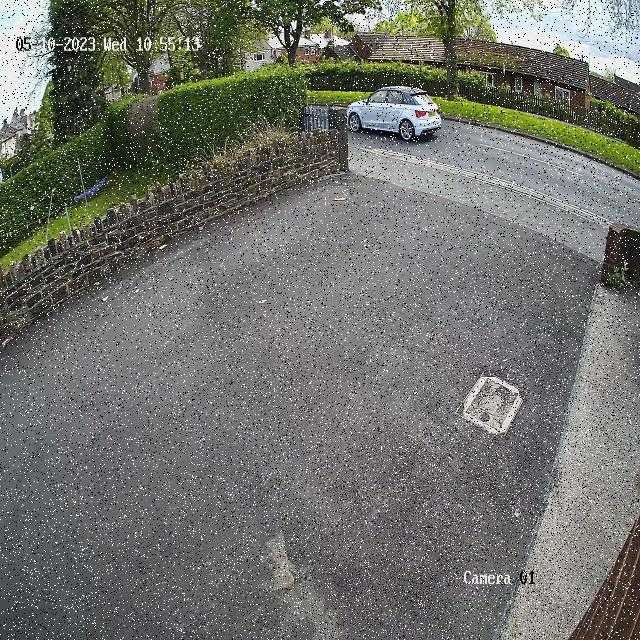vehicle: (338, 81, 449, 147)
